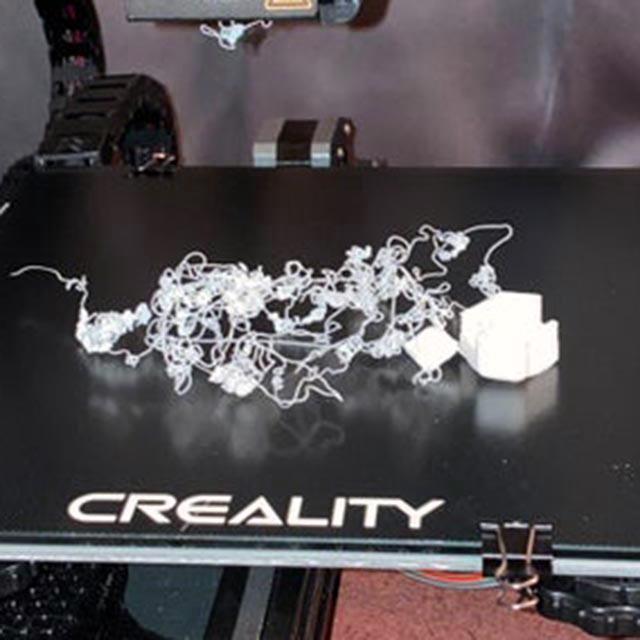spaghetti: (70, 219, 515, 409), (199, 16, 274, 52), (9, 263, 89, 295)
